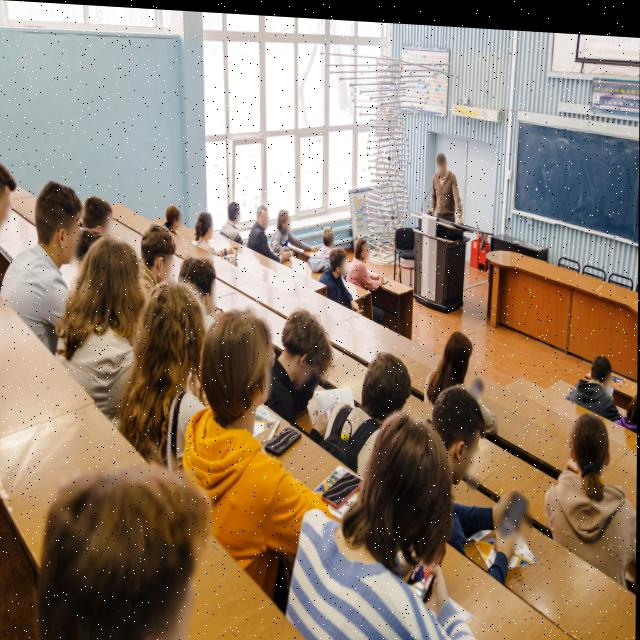Person: (277, 404, 501, 640), (191, 294, 334, 565), (31, 450, 205, 640), (542, 399, 638, 600), (6, 174, 90, 360), (66, 220, 144, 420), (132, 276, 208, 468), (316, 342, 425, 468), (437, 389, 513, 561), (274, 303, 336, 417), (431, 311, 494, 409), (426, 142, 473, 237), (566, 338, 621, 419), (323, 238, 360, 331), (0, 143, 19, 317), (189, 204, 237, 272), (179, 248, 221, 318), (351, 231, 384, 306), (81, 183, 120, 246), (140, 221, 173, 291), (250, 201, 278, 270), (276, 203, 311, 258), (310, 220, 339, 273), (221, 192, 245, 244), (162, 199, 188, 237)
